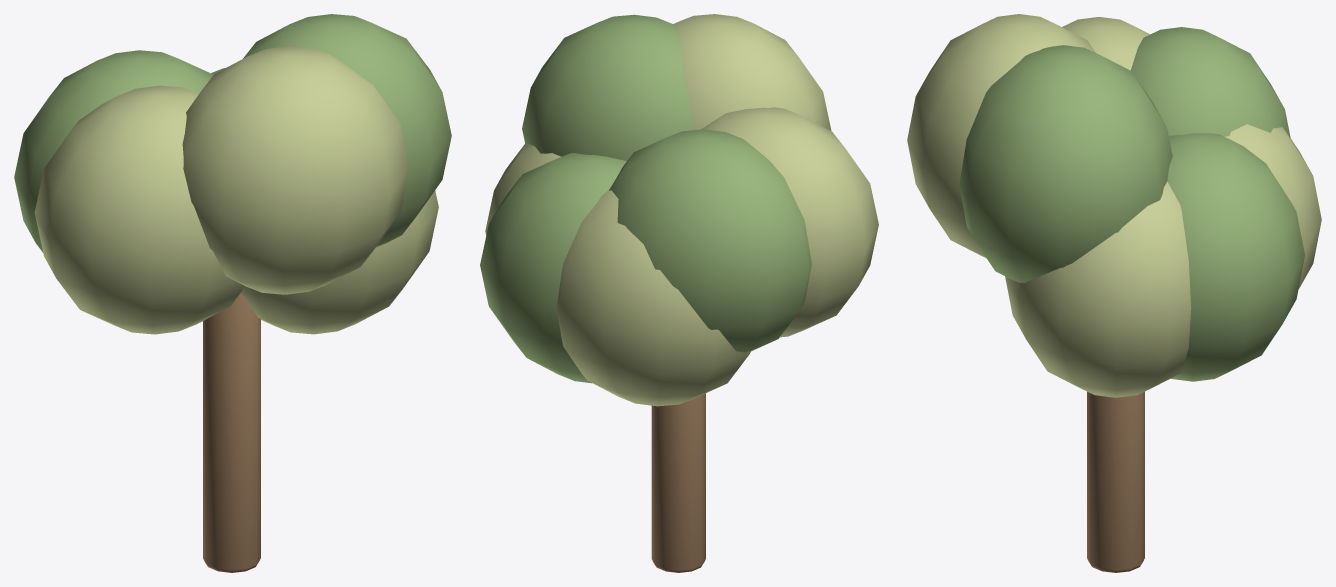
File: Tree.fbx
3 views of the same model, side by side, from view 1: azimuth 30°, elevation 25°; view 2: azimuth 150°, elevation 25°; view 3: azimuth 270°, elevation 25° (orthographic). The views are drawn at different scales.
Visible parts, largest first — view 1: LeafLight.004, Leaf.004, Wood.005; view 2: Leaf.004, LeafLight.004, Wood.005; view 3: Leaf.004, LeafLight.004, Wood.005.
Part boxes in pixels (left/top/right/bottom): LeafLight.004: left=34, top=46, right=438, bottom=334; Leaf.004: left=14, top=14, right=451, bottom=252; Wood.005: left=203, top=293, right=260, bottom=572; Leaf.004: left=480, top=14, right=811, bottom=383; LeafLight.004: left=485, top=14, right=878, bottom=406; Wood.005: left=651, top=393, right=705, bottom=572; Leaf.004: left=959, top=27, right=1304, bottom=381; LeafLight.004: left=907, top=14, right=1321, bottom=397; Wood.005: left=1087, top=391, right=1144, bottom=572.
Bounding box in the file's own units: 215 × 288 × 200.
